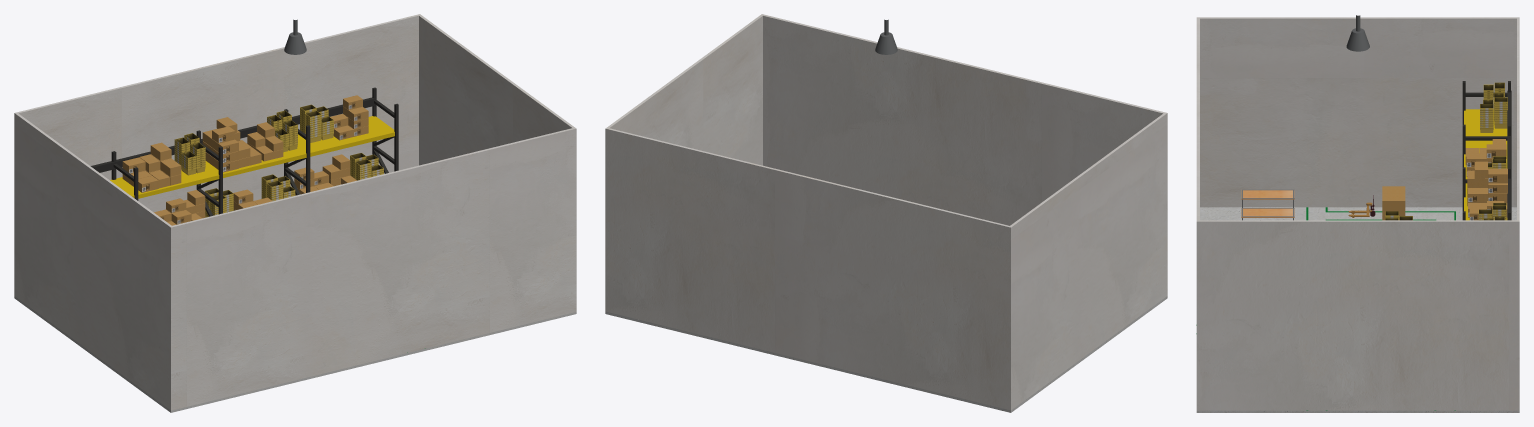
Rendered from AmazonWarehouse.glb.
3 renders of one model, left to right at view 1: azimuth 30°, elevation 25°; view 2: azimuth 150°, elevation 25°; view 3: azimuth 270°, elevation 25°, orthographic. The views are drawn at different scales.
Visible parts, largest first — view 1: aws_robomaker_warehouse_WallB_01_visual, aws_robomaker_warehouse_ShelfF_01_visual, aws_robomaker_warehouse_GroundB_01_visual; view 2: aws_robomaker_warehouse_WallB_01_visual, aws_robomaker_warehouse_GroundB_01_visual; view 3: aws_robomaker_warehouse_WallB_01_visual, aws_robomaker_warehouse_ShelfF_01_visual, aws_robomaker_warehouse_GroundB_01_visual, Box002 (×2), aws_robomaker_warehouse_ClutteringD_01_visual, aws_robomaker_warehouse_Lamp_01_visual.
Part boxes in pixels (x1=…): aws_robomaker_warehouse_WallB_01_visual: x1=14, y1=14, x2=576, y2=410; aws_robomaker_warehouse_ShelfF_01_visual: x1=90, y1=87, x2=398, y2=225; aws_robomaker_warehouse_GroundB_01_visual: x1=14, y1=296, x2=576, y2=412; aws_robomaker_warehouse_WallB_01_visual: x1=605, y1=14, x2=1167, y2=410; aws_robomaker_warehouse_GroundB_01_visual: x1=605, y1=296, x2=1167, y2=412; aws_robomaker_warehouse_WallB_01_visual: x1=1196, y1=17, x2=1519, y2=410; aws_robomaker_warehouse_ShelfF_01_visual: x1=1462, y1=81, x2=1511, y2=220; aws_robomaker_warehouse_GroundB_01_visual: x1=1196, y1=207, x2=1519, y2=412; Box002 (×2): x1=1241, y1=190, x2=1294, y2=217; aws_robomaker_warehouse_ClutteringD_01_visual: x1=1382, y1=186, x2=1405, y2=220; aws_robomaker_warehouse_Lamp_01_visual: x1=1346, y1=15, x2=1369, y2=51.
Bounding box in the file's own units: 106 × 71.51 × 70.86.
Materials: 18 (17 with a texture image).
